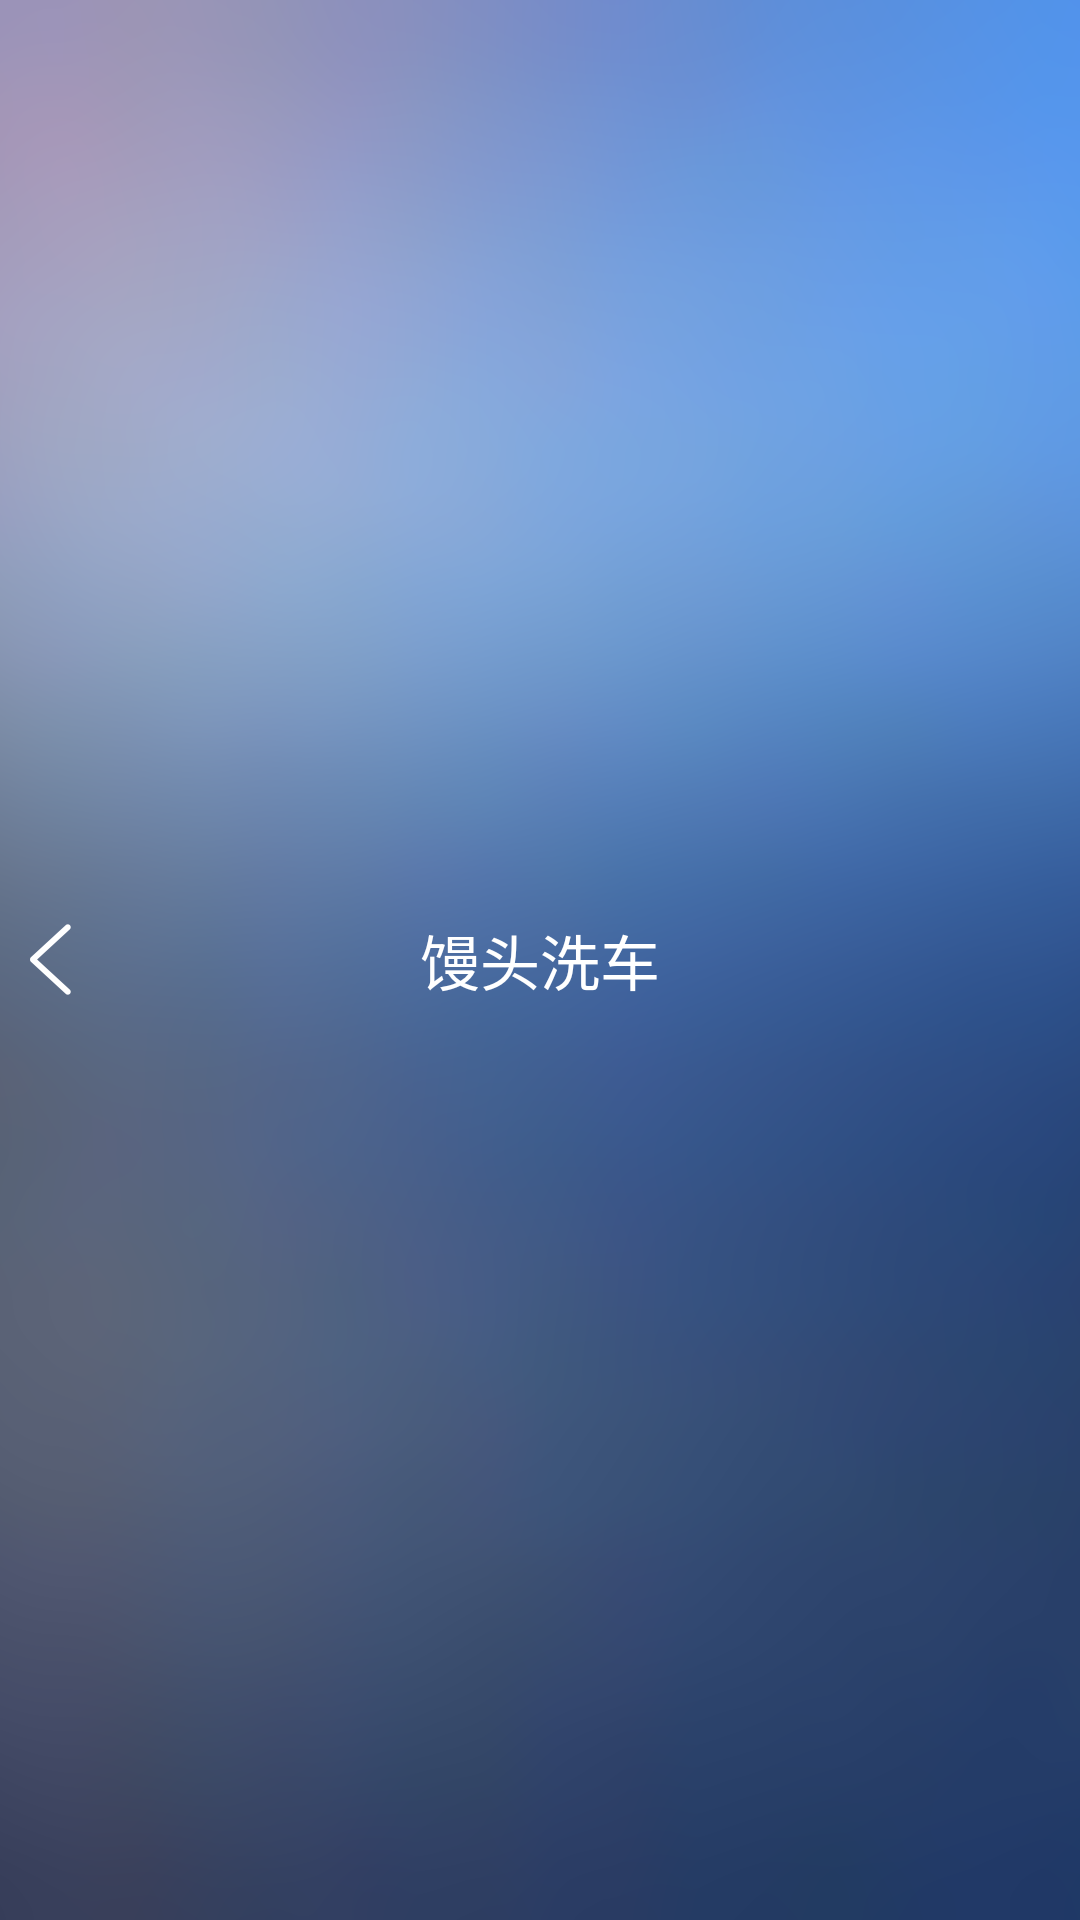

Screen size 1080x1920. Icon name, then its center in pixels as (x,y):
titlebar back: (50,959)
